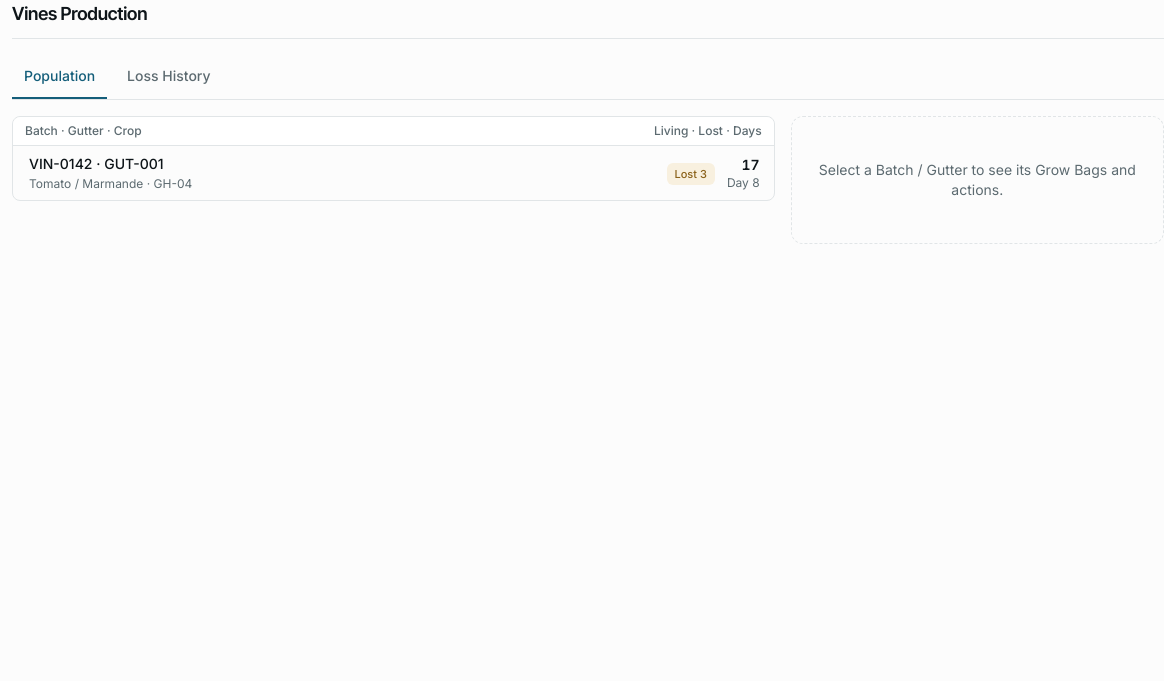
Scenario: VinesProductionPage › requires a reason before proceeding to review
Expected: the text "VIN-0142 · GUT-001" is shown, [29,154,164,174]
Click the button "VIN-0142 · GUT-001 Tomato / Marmande · GH-04".
click(96, 163)  # box [29,154,654,192]
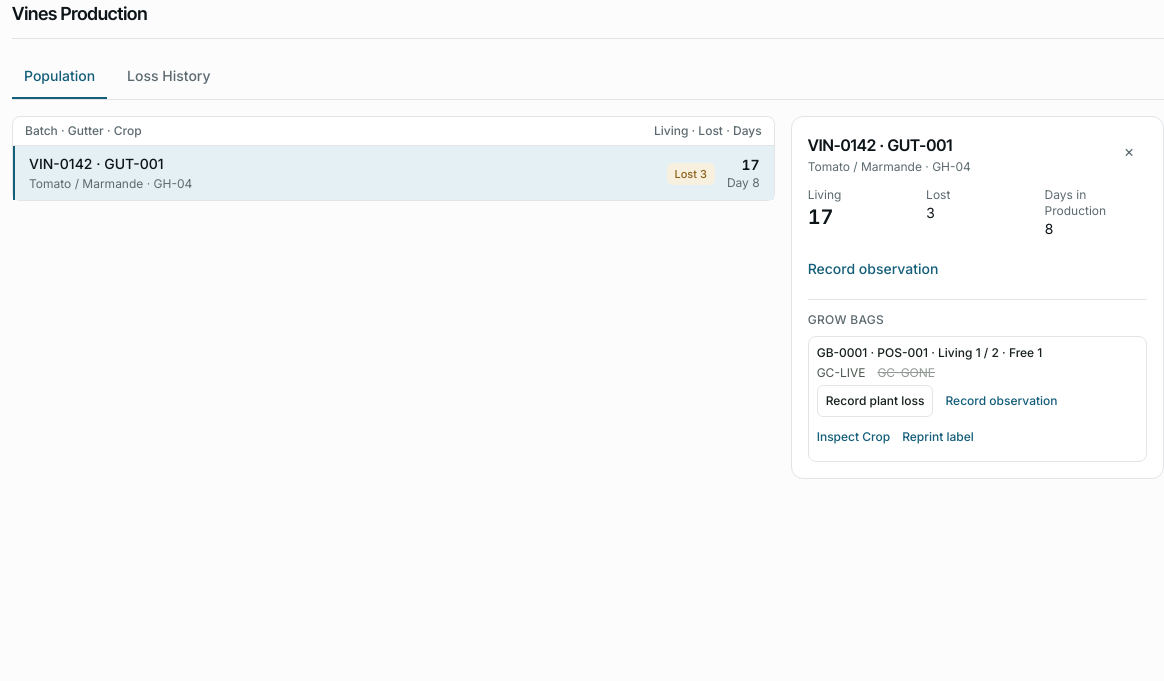
Result: the text "GB-0001 · POS-001 · Living 1 / 2 · Free 1" is shown at [817,344,1042,360]
Click the button "Record plant loss".
click(875, 400)  # box [817,384,934,416]
(page scrolled)
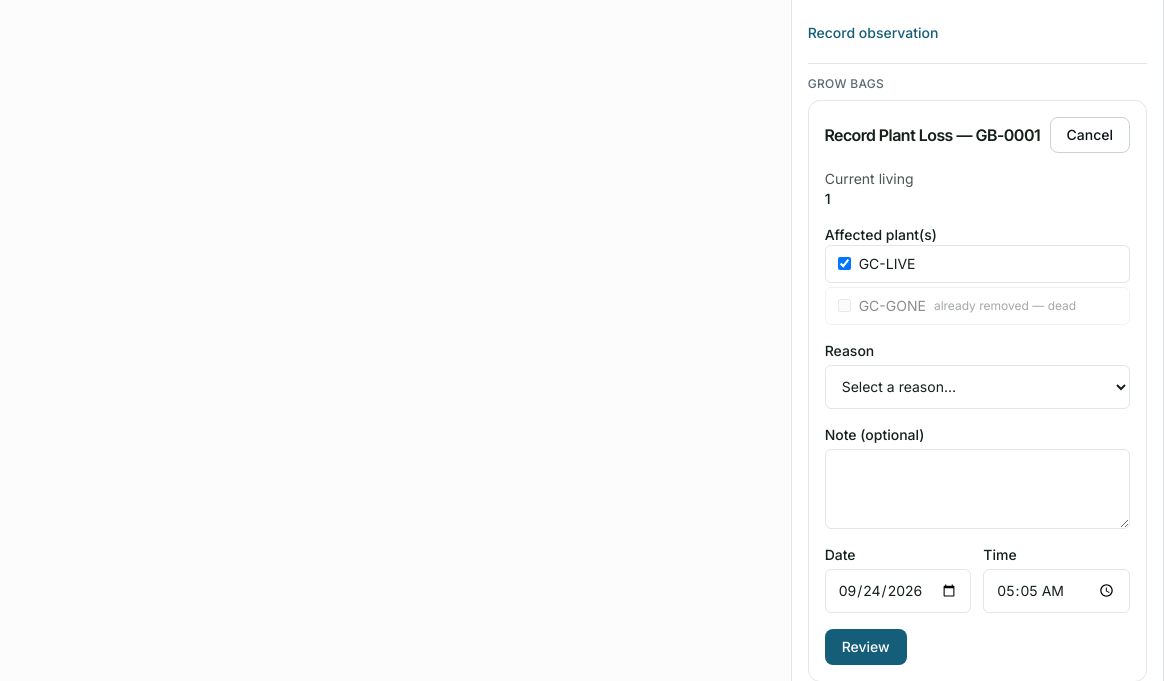
Result: the heading "Record Plant Loss — GB-0001" is shown at [825,122,1040,146]
Click the button "Review".
click(866, 646)  # box [825,628,907,664]
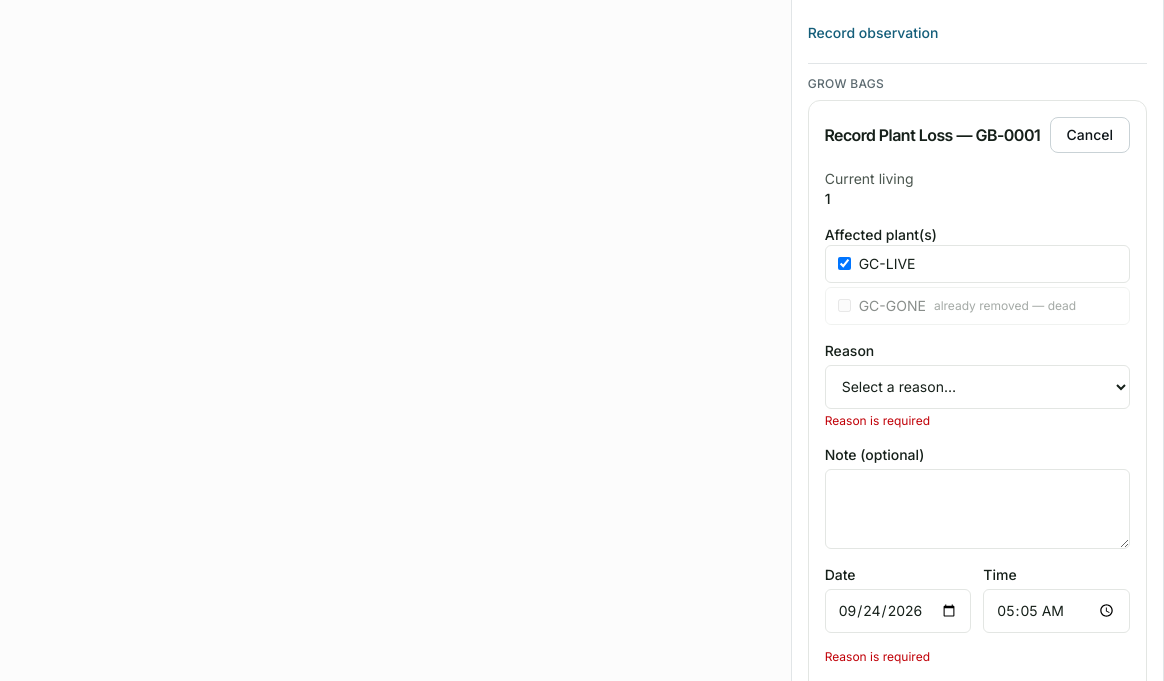
Result: the message reads "Reason is required" at [825,648,930,664]
